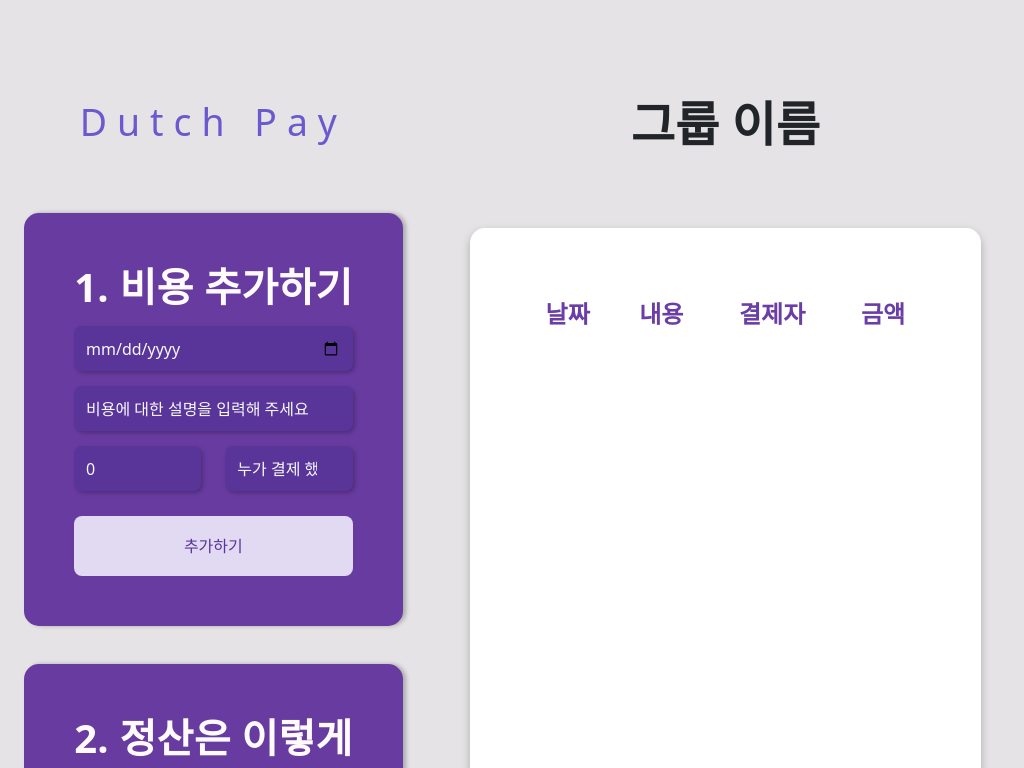
Test: 비용 정산 메인 페이지 › 새로운 비용이 입력되었을 때, › 날짜, 내용, 결제자, 금액 데이터가 정산 리스트에 추가 된다
Step 1. Type "2023-05-07" into the date field with placeholder "결제한 날짜를 선택해 주세요" → coordinates (213, 349), box [74,326,353,371]
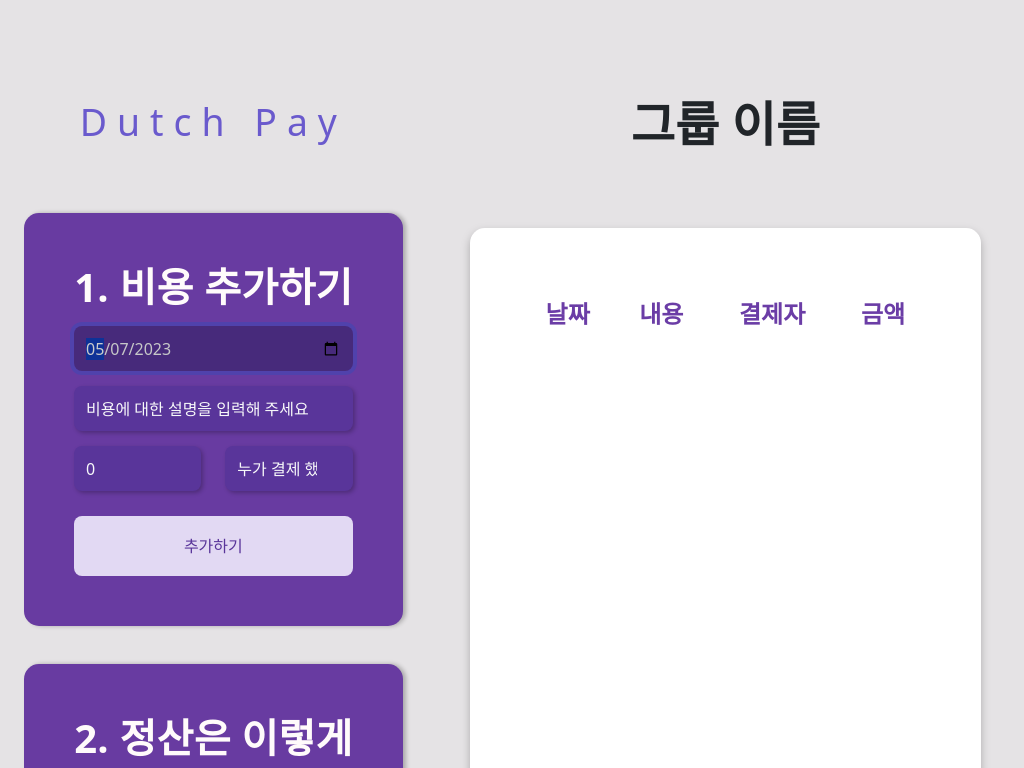
Step 2. Type "장보기" into the field with placeholder "비용에 대한 설명을 입력해 주세요" → coordinates (213, 409), box [74,386,353,431]
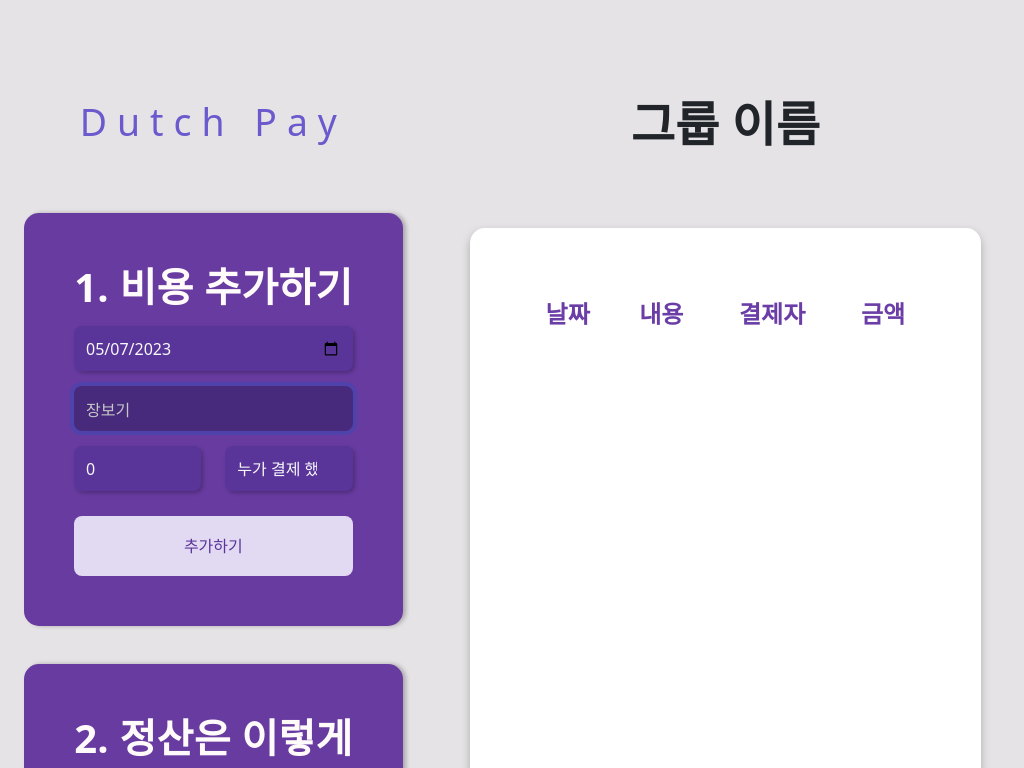
Step 3. Type "30000" into the number field with placeholder "비용은 얼마였나요?" → coordinates (138, 469), box [74,446,201,491]
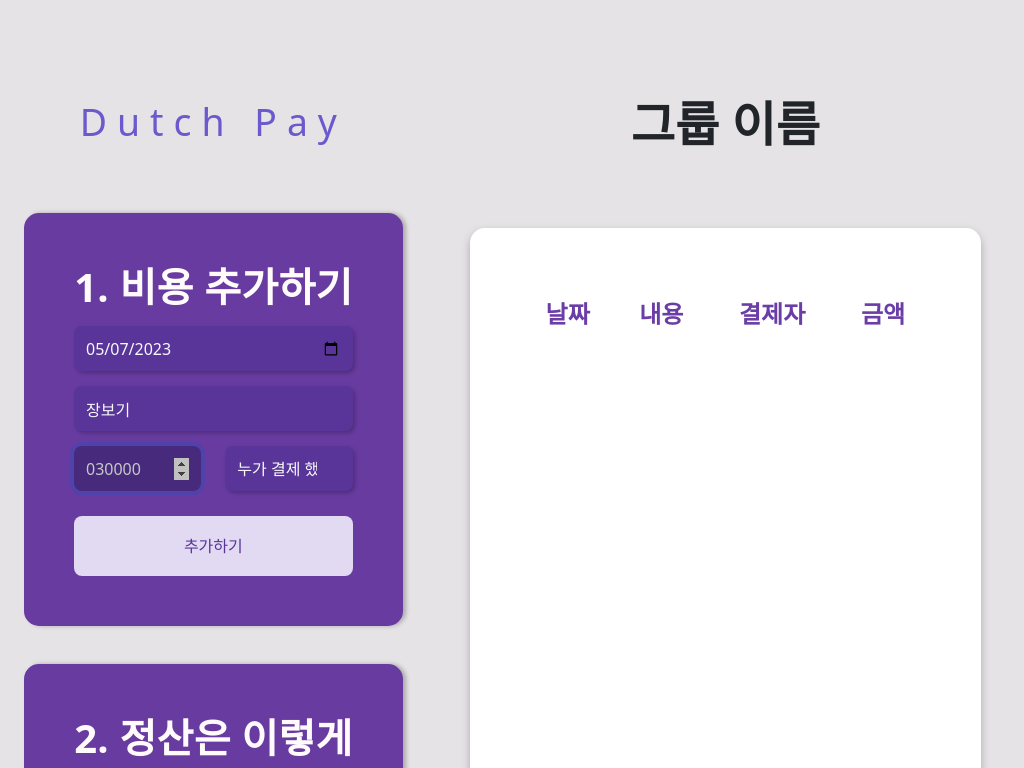
Step 4. Select "영수" in the dropdown showing "누가 결제" → coordinates (289, 469), box [225,446,353,491]
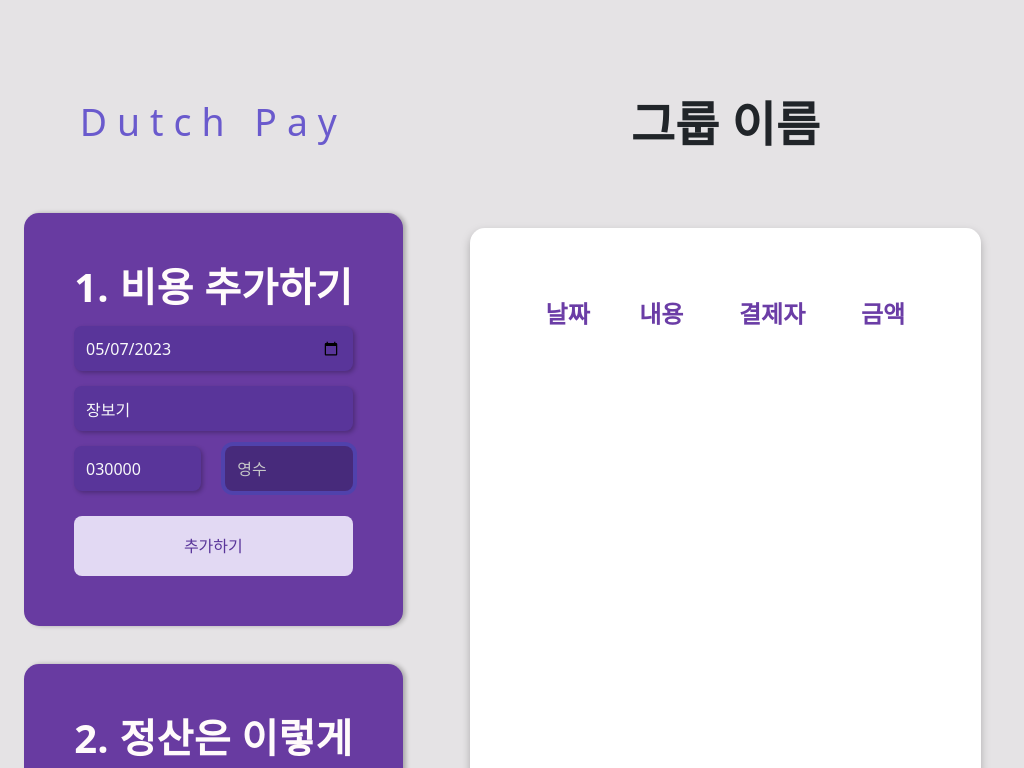
Step 5. Click the button "추가하기" → coordinates (213, 546), box [74,516,353,576]
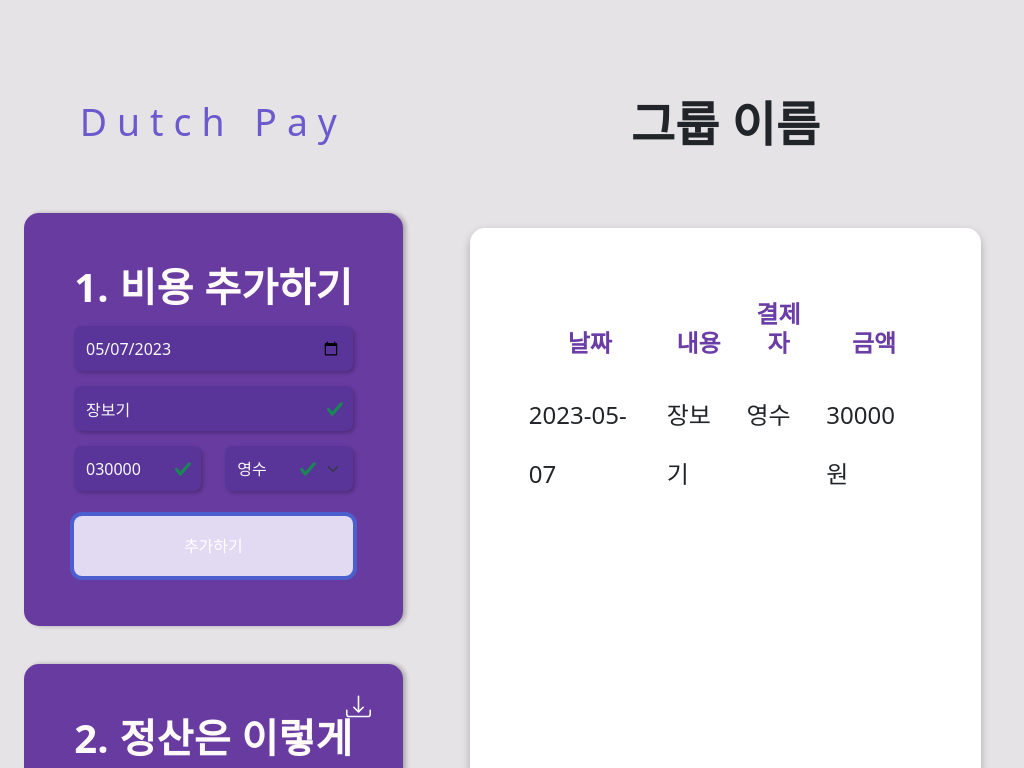
Result: the text "2023-05-07" is shown at [521,377,659,511]
Result: the text "장보기" is shown at [659,377,738,511]
Result: the text "30000 원" is shown at [818,377,930,511]
